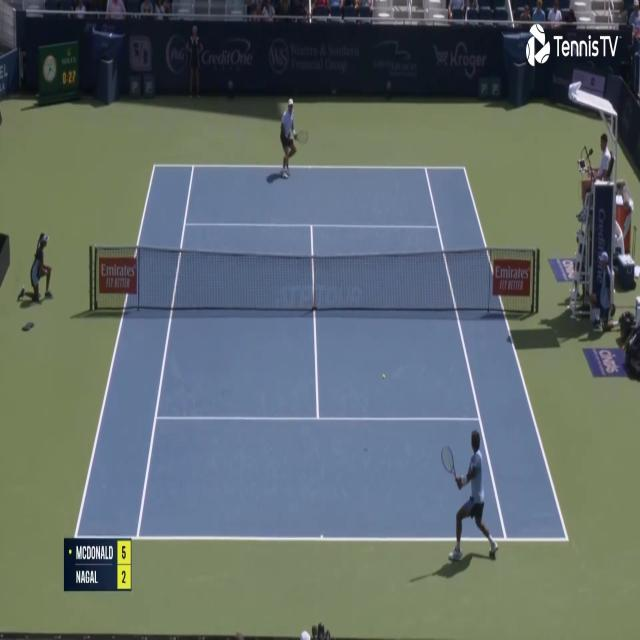tennis-player: (441, 428, 508, 568), (278, 95, 308, 182)
